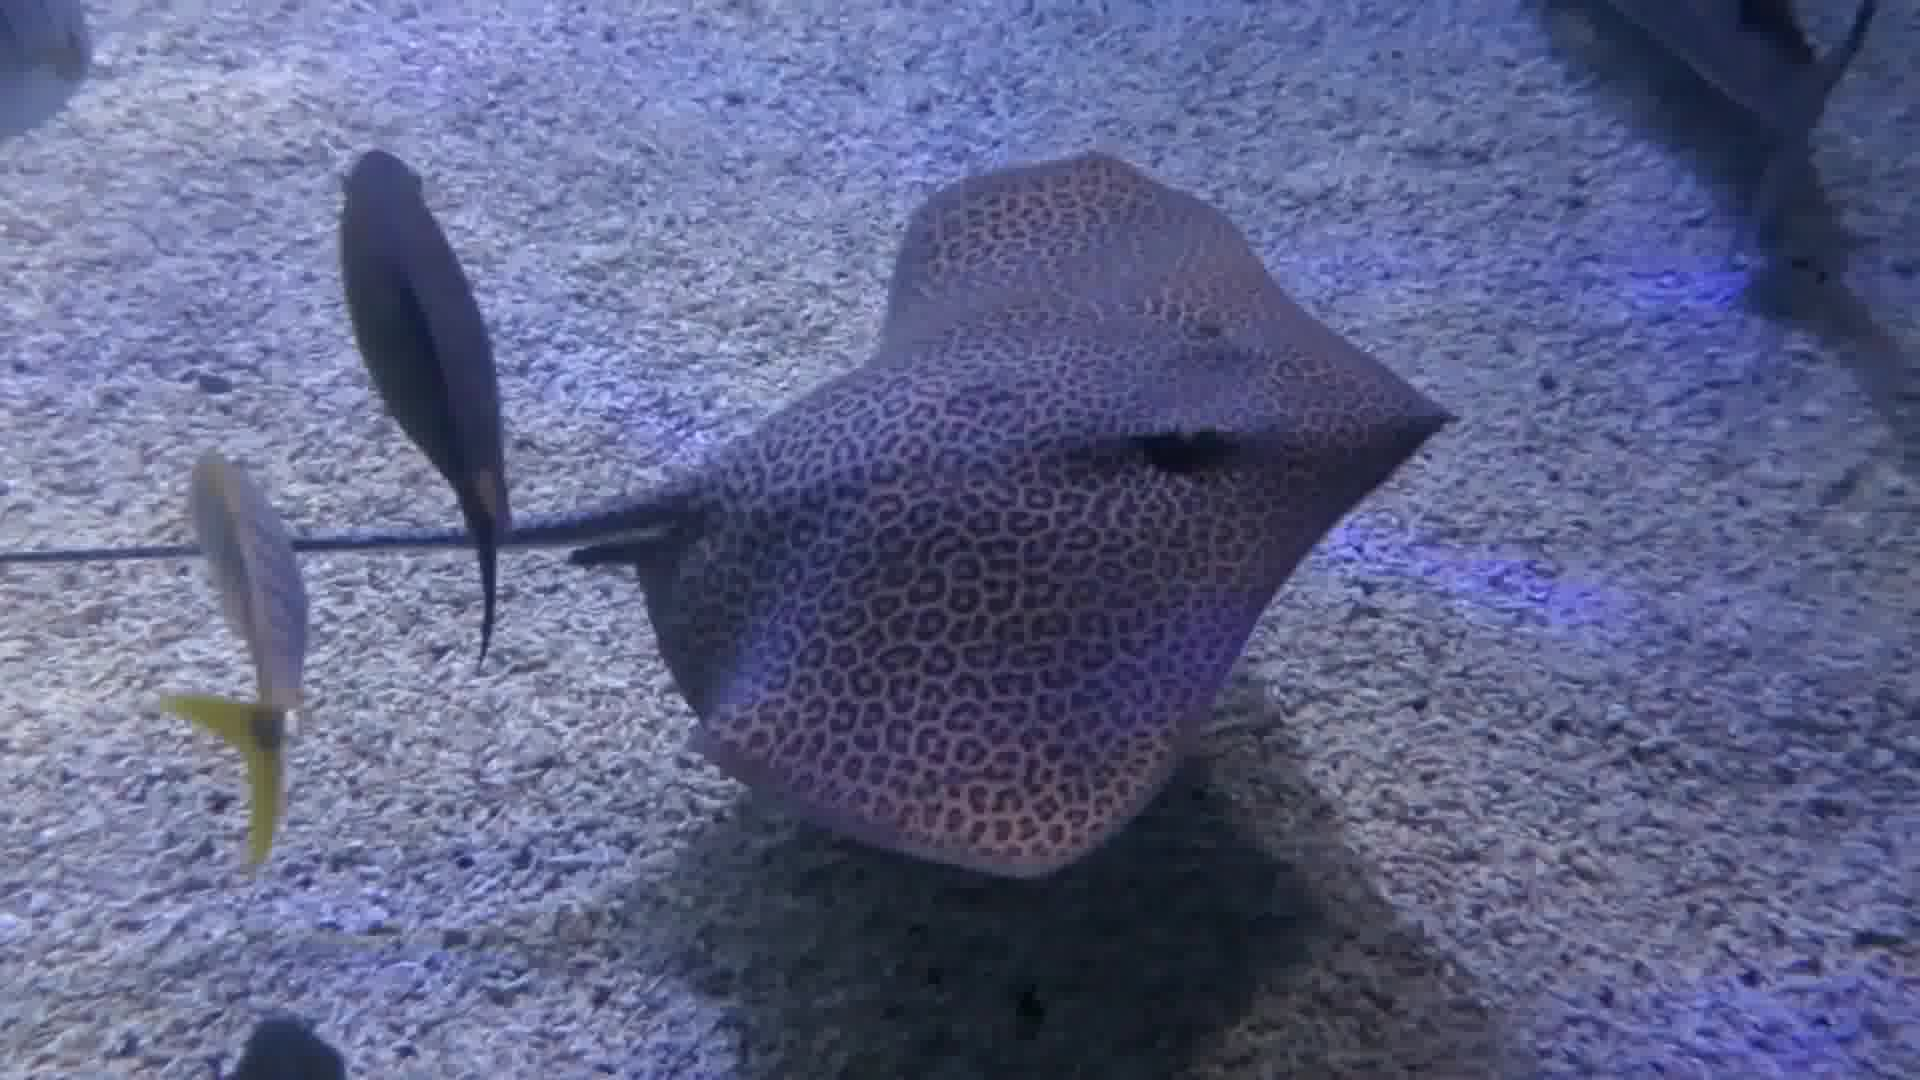Himantura uarnak: (636, 105, 1465, 915)
